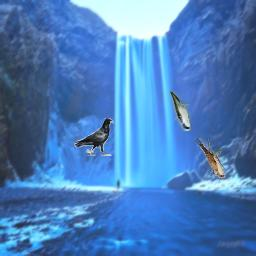Crow: (74, 118, 114, 156)
Cuckoo: (194, 138, 226, 178)
Swallow: (170, 91, 191, 131)
